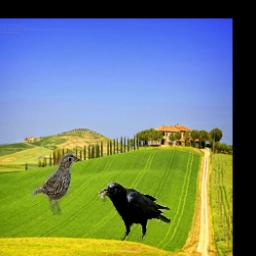Crow: (98, 182, 171, 241)
Sparrow: (31, 152, 78, 216)
